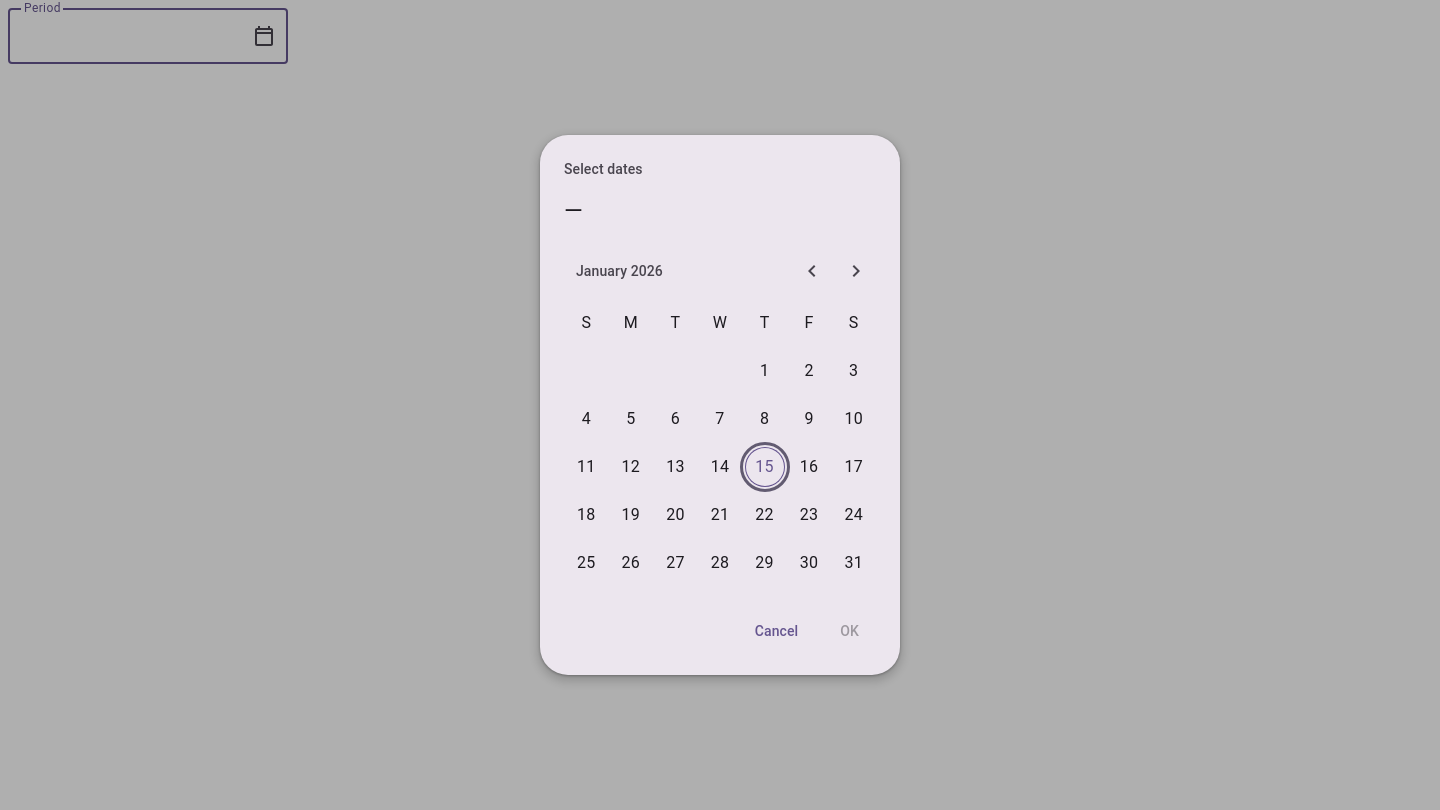
Test case: DateRangePicker › opens in a modal dialog with the range as headline
Earlier steps of the test are not shown.
Click the cell named "January 2, 2026": (809, 371) 787,347 -> 831,395
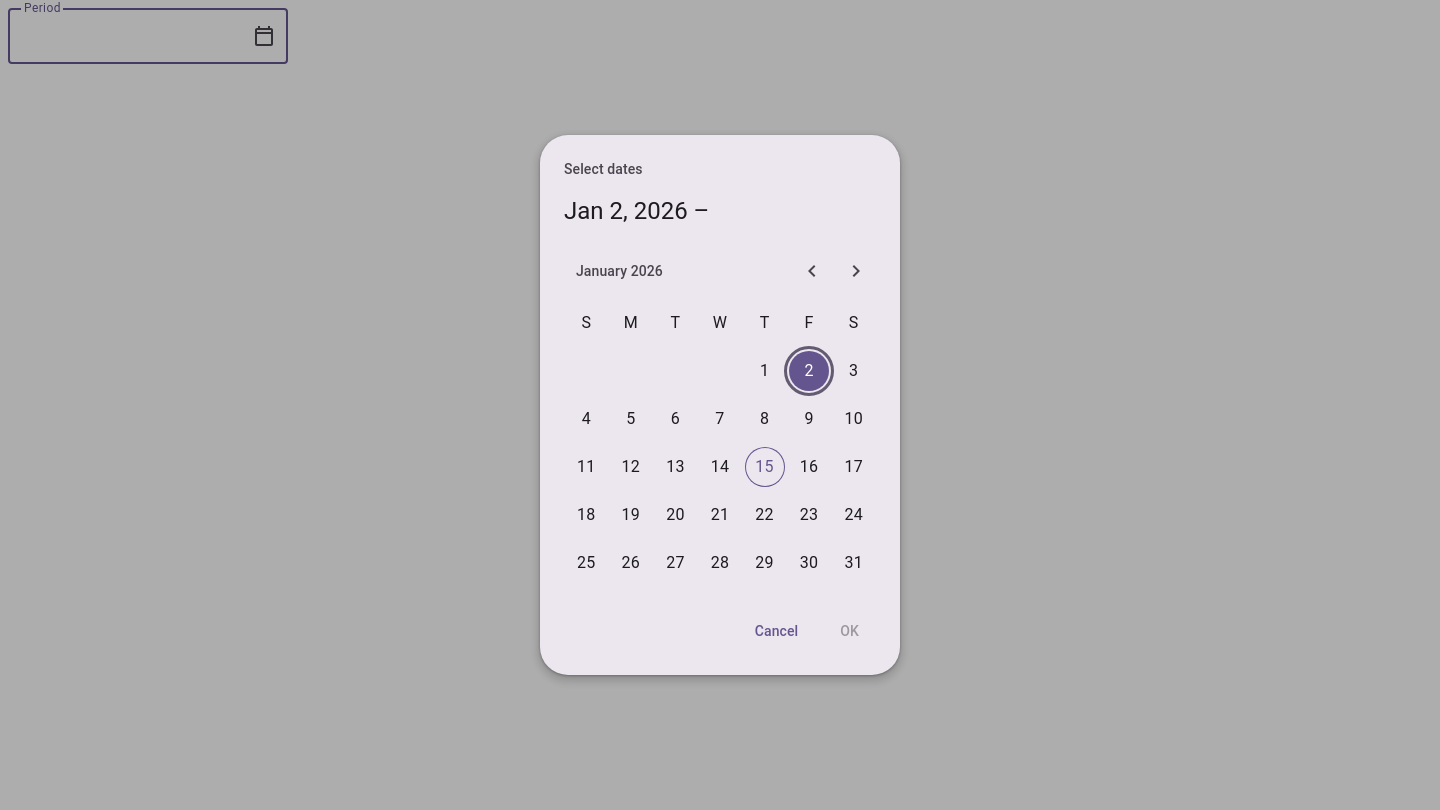
Click the cell named "January 6, 2026": (675, 419) 653,395 -> 698,443
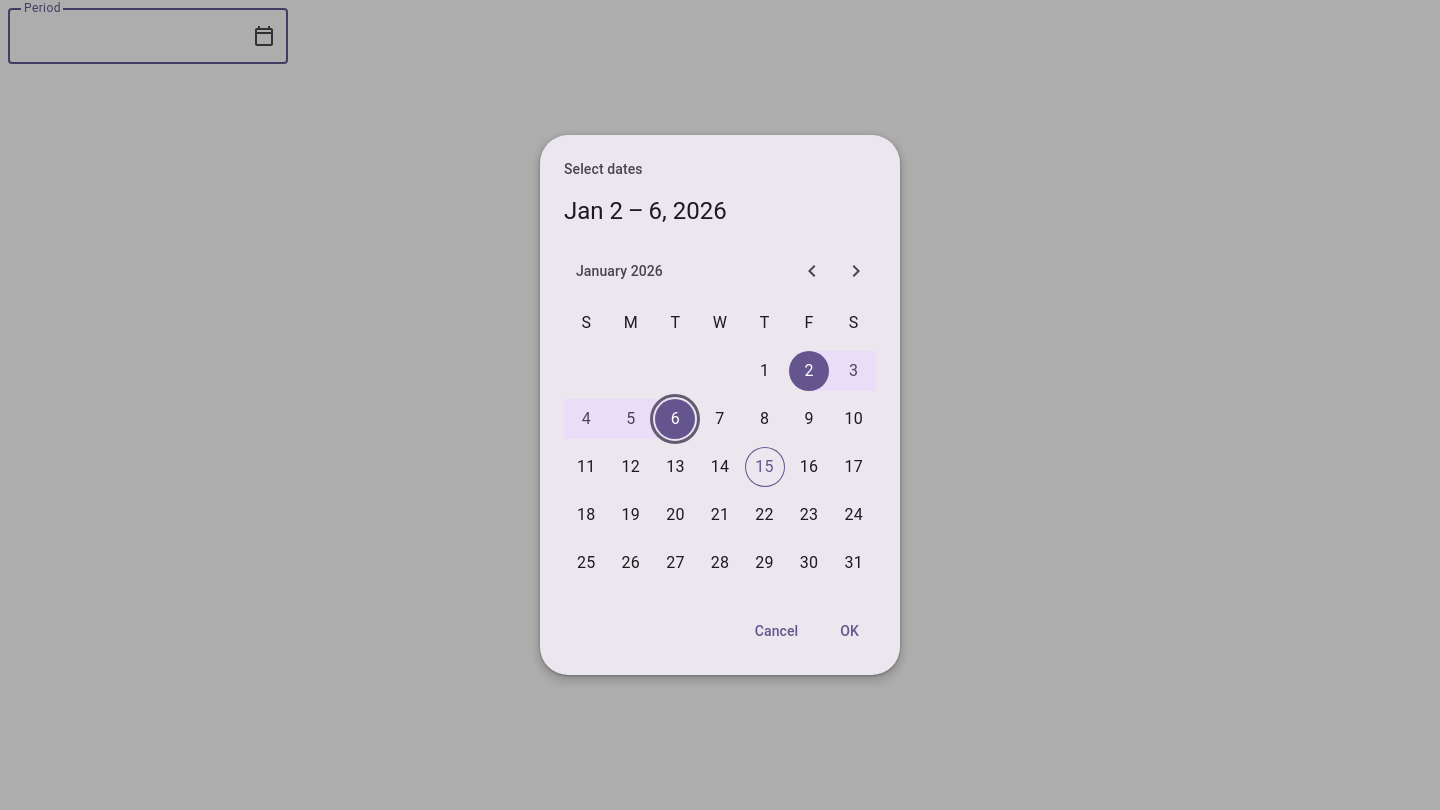
Check: the dialog "Select dates" shows "Jan 2 – 6, 2026", box 564,197 -> 727,225
